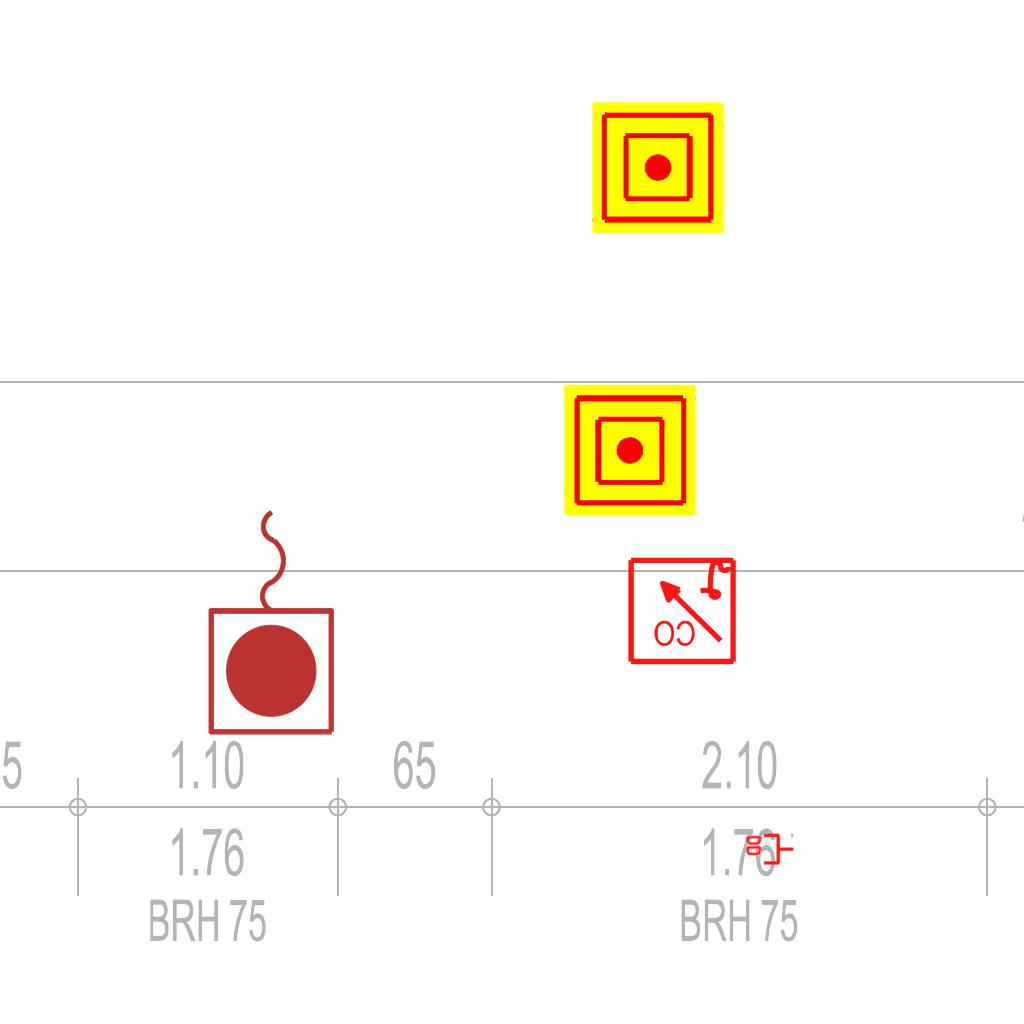Datenanschluss_zweifach: (744, 833, 795, 867)
NAM-Nichtautomatischer_Melder: (592, 102, 724, 234), (564, 384, 696, 516)
ROA_Rauchmelder_optisch_mit_Signalgeber_(Sockelsirene): (625, 553, 738, 666)
Zugtaster: (201, 499, 345, 743)
